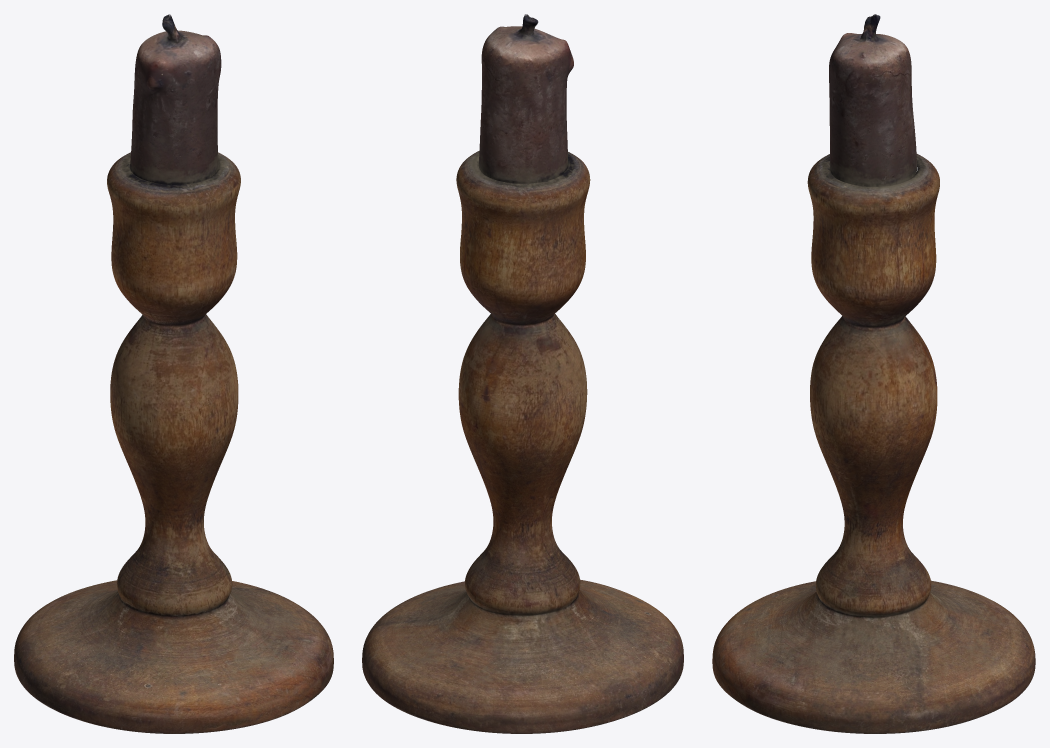
File: wooden_candlestick_1k.gltf
3 renders of one model, left to right at view 1: azimuth 30°, elevation 25°; view 2: azimuth 150°, elevation 25°; view 3: azimuth 270°, elevation 25°, orthographic.
Visible parts, largest first — view 1: wooden_candlestick; view 2: wooden_candlestick; view 3: wooden_candlestick.
Boxes of the visible parts, box(x1,y1,x2,y2) form: wooden_candlestick: box(14, 14, 333, 733); wooden_candlestick: box(362, 14, 683, 733); wooden_candlestick: box(712, 14, 1035, 733).
Size of the model in its own units: 0.0972 by 0.2197 by 0.0987.
1 material, 1 textured.
